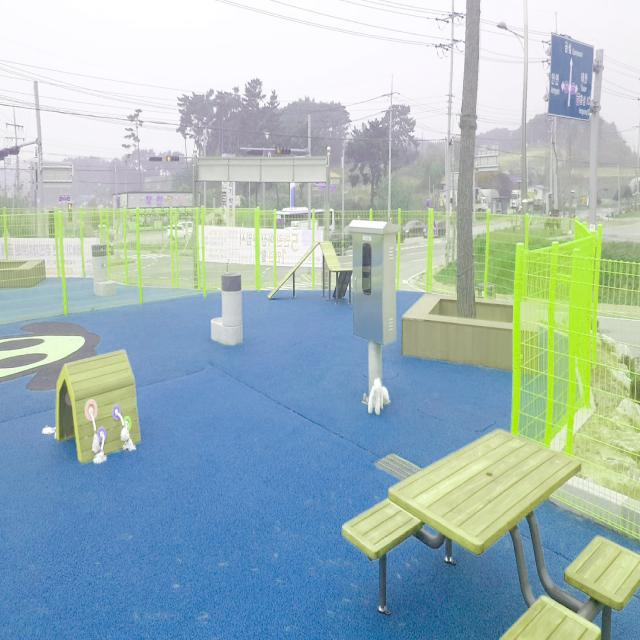Dog: (367, 378, 390, 413)
